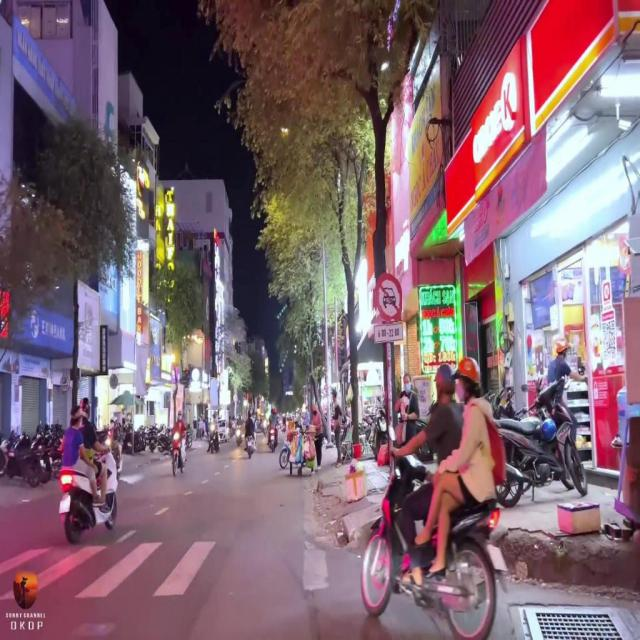cam_o_to: (373, 271, 402, 321)
khac: (374, 322, 404, 342)
